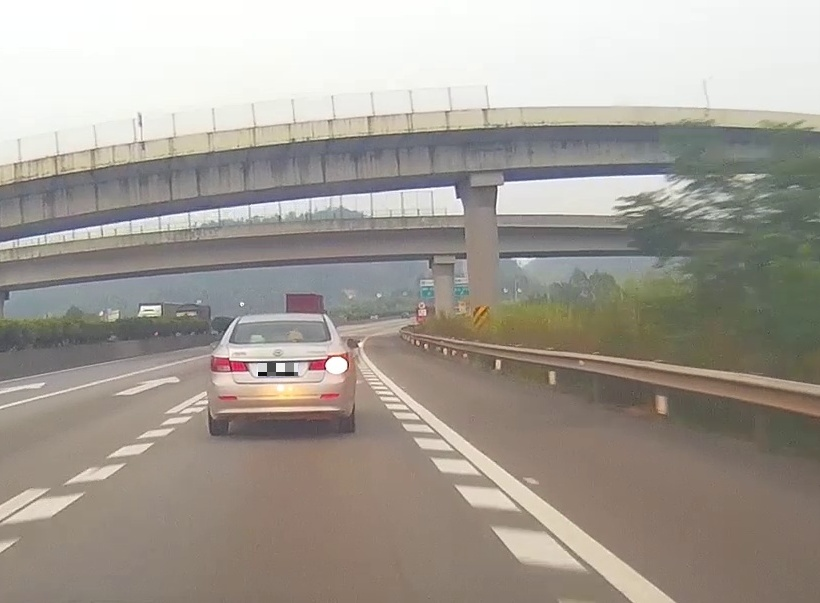L_light: (210, 354, 248, 373)
R_light: (308, 352, 348, 373)
T_light: (270, 337, 289, 342)
day-right: (207, 313, 354, 435)
plate_1: (258, 363, 298, 376)
